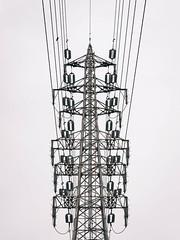power_tower: (46, 36, 132, 240)
